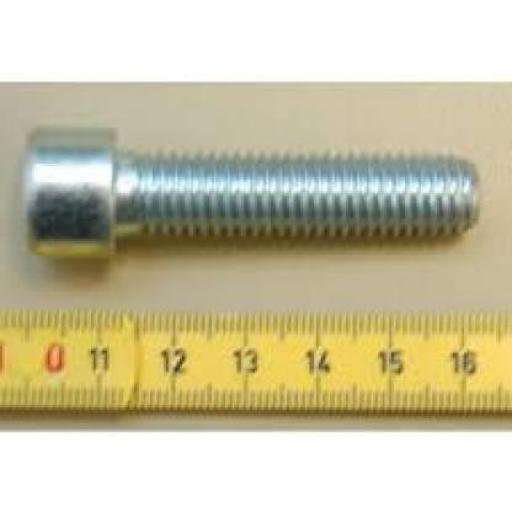Bolt: (21, 126, 481, 260)
